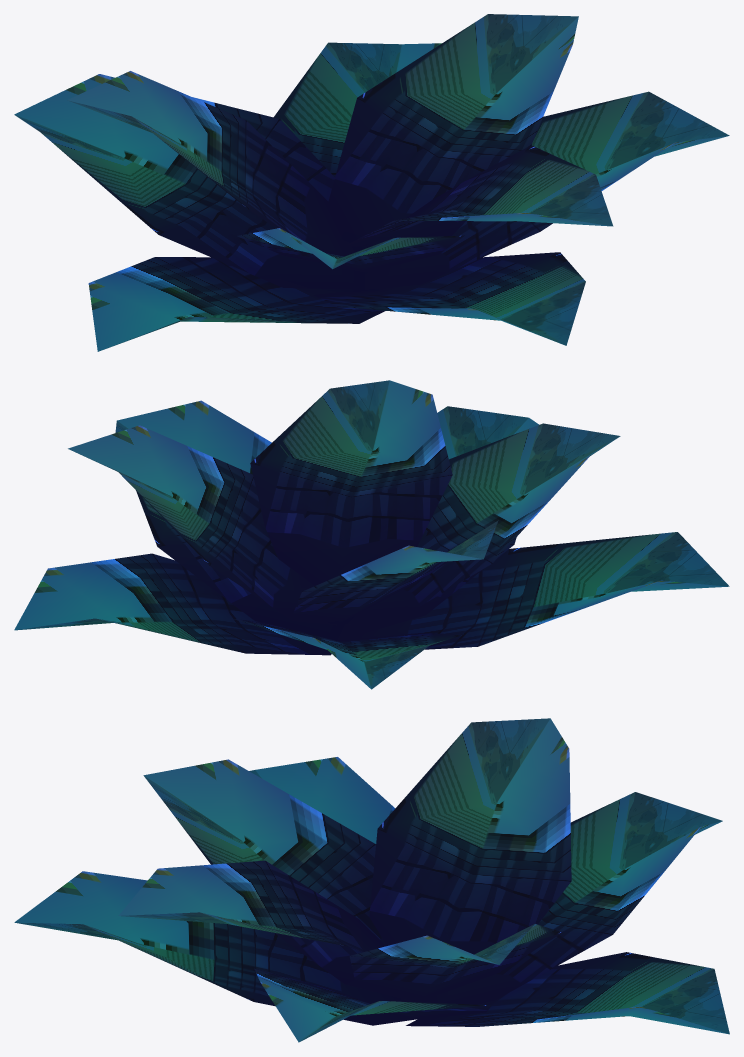
Rendered from trp_flower1.glb.
3 views of the same model, one above another, from view 1: azimuth 30°, elevation 25°; view 2: azimuth 150°, elevation 25°; view 3: azimuth 270°, elevation 25° (orthographic). The views are drawn at different scales.
Visible parts, largest first — view 1: SM_Env_Flower_01_LOD0; view 2: SM_Env_Flower_01_LOD0; view 3: SM_Env_Flower_01_LOD0.
Boxes of the visible parts, bbox=[...] form: SM_Env_Flower_01_LOD0: bbox=[14, 14, 729, 351]; SM_Env_Flower_01_LOD0: bbox=[14, 380, 729, 689]; SM_Env_Flower_01_LOD0: bbox=[14, 718, 729, 1042].
Size of what is drawn, in the model's own units: 0.5625 by 0.1673 by 0.5457.
1 material, 1 textured.
